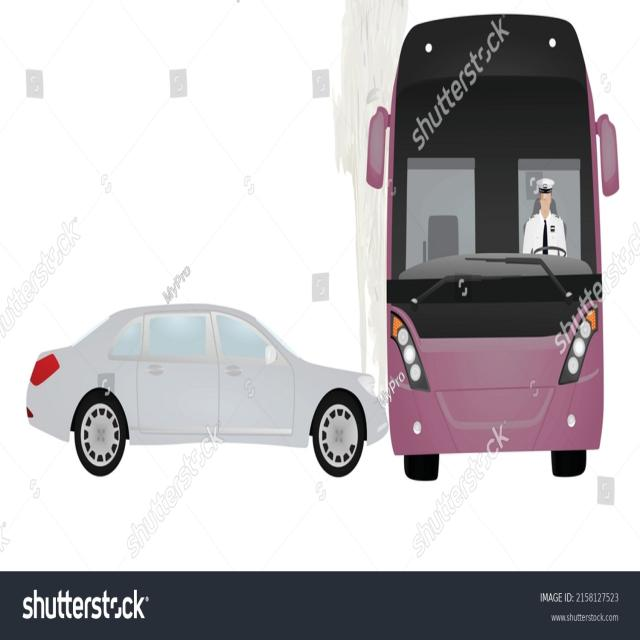Accident: (28, 10, 622, 497)
